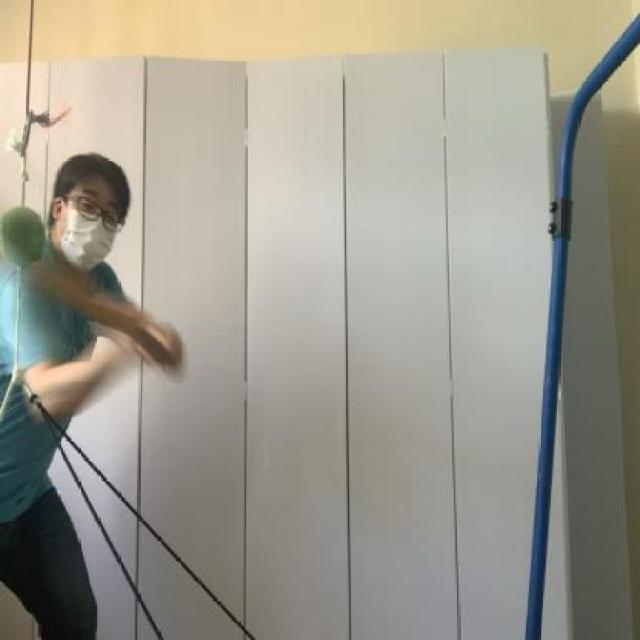baseball: (2, 197, 52, 275)
